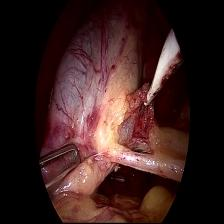Grasper: (38, 140, 83, 192)
Hook: (140, 27, 183, 113)
